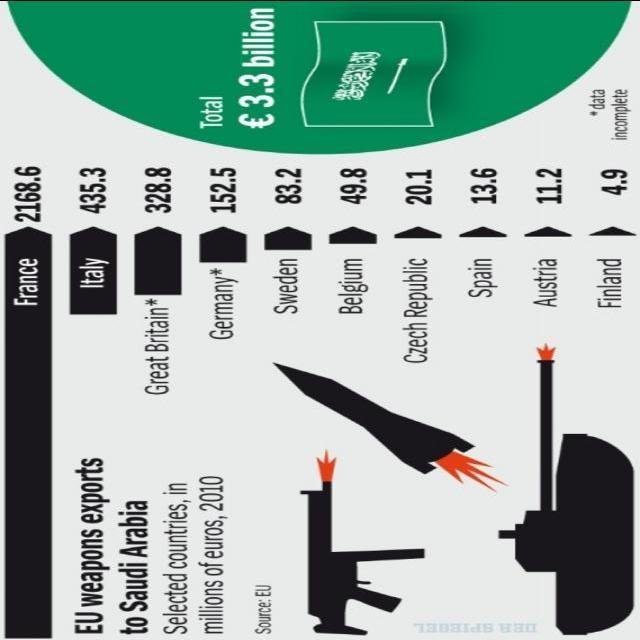Missile: (271, 360, 476, 476)
